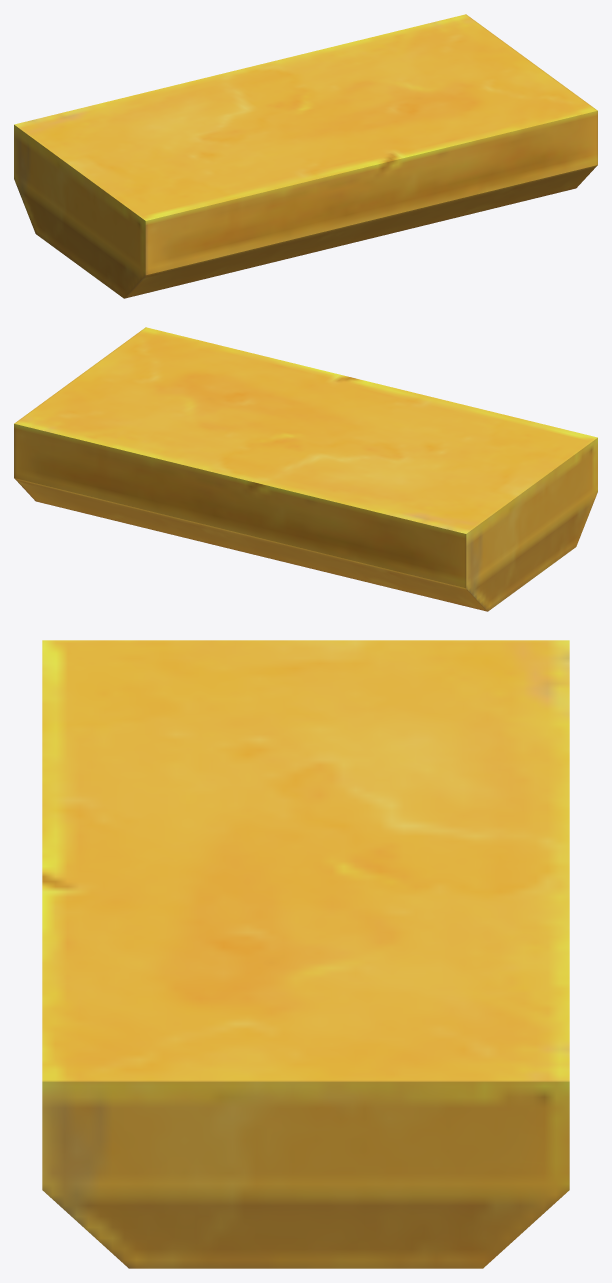
Rendered from G_fushou001.fbx.
The picture shows the model from 3 angles, top to bottom: view 1: azimuth 30°, elevation 25°; view 2: azimuth 150°, elevation 25°; view 3: azimuth 270°, elevation 25°; orthographic projection. The views are drawn at different scales.
Visible parts, largest first — view 1: G_fushou001; view 2: G_fushou001; view 3: G_fushou001.
Part boxes in pixels (left/top/right/bottom): G_fushou001: left=14, top=14, right=597, bottom=298; G_fushou001: left=14, top=327, right=597, bottom=611; G_fushou001: left=42, top=640, right=569, bottom=1268.
Size of the model in its own units: 43.84 by 8.67 by 22.14.
